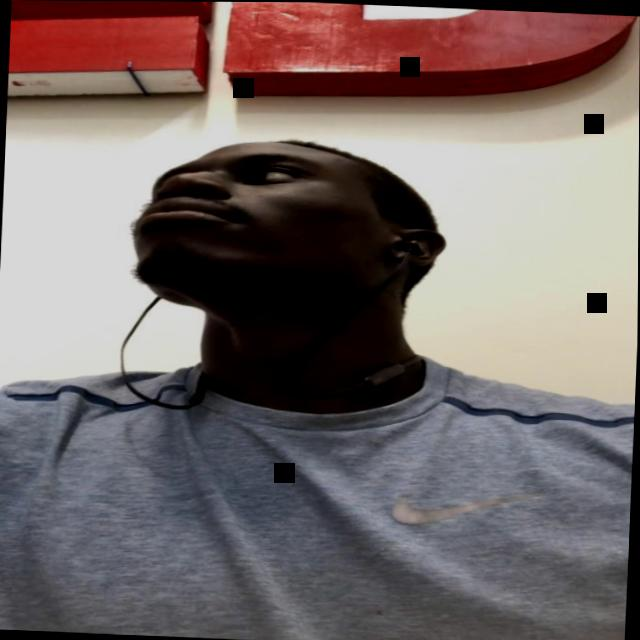NO-Mask: (129, 137, 421, 307)
